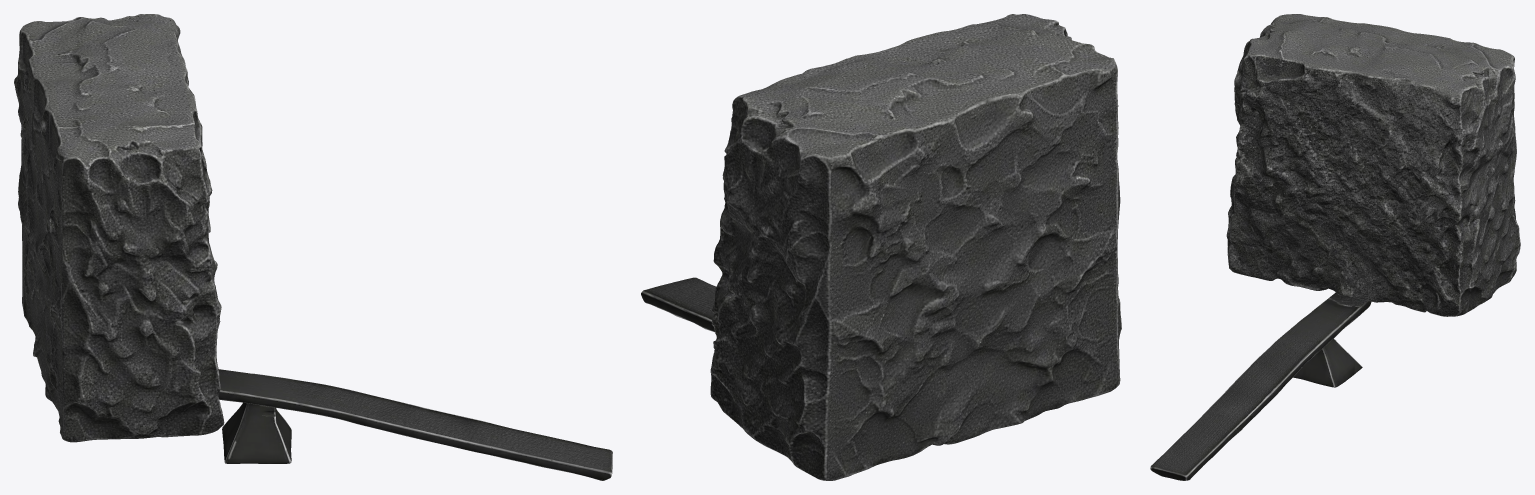
The model's file is alavanca-3d-web.glb.
The picture shows the model from 3 angles, left to right: view 1: azimuth 30°, elevation 25°; view 2: azimuth 150°, elevation 25°; view 3: azimuth 270°, elevation 25°; orthographic projection. The views are drawn at different scales.
Parts seen in each view (by area): view 1: Mesh1.0; view 2: Mesh1.0; view 3: Mesh1.0.
Part boxes in pixels (<box>): Mesh1.0: <box>14,14,612,480</box>; Mesh1.0: <box>641,14,1121,480</box>; Mesh1.0: <box>1150,14,1520,480</box>.
Bounding box in the file's own units: 2 × 1.53 × 1.71.
Materials: 1 (1 with a texture image).
